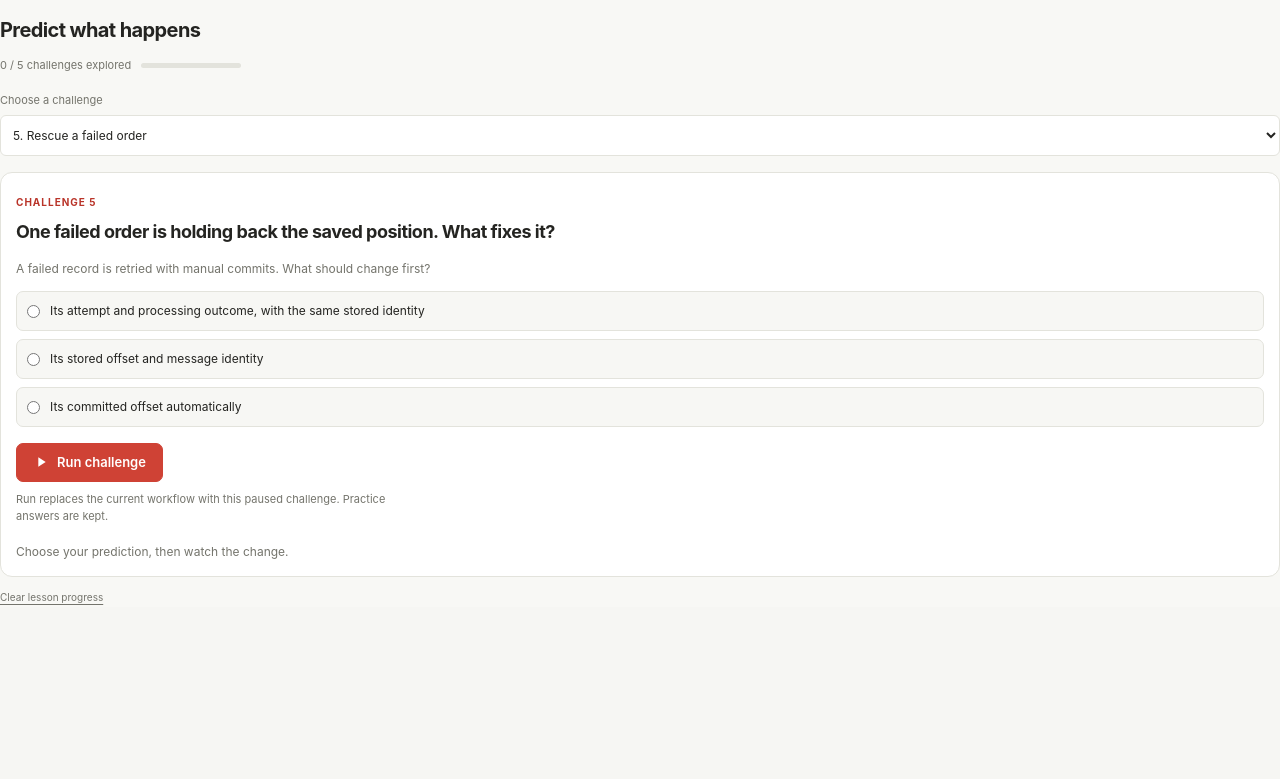
Scenario: guided causal experiments with actual simulator evidence › labels captured results after workflow replacement and disables a stale retry commit
This screenshot has width=1280, height=779.
Step 1. Click the radio button labelled "Its attempt and processing outcome, with the same stored identity" → (34, 311), box 27,305 -> 40,318
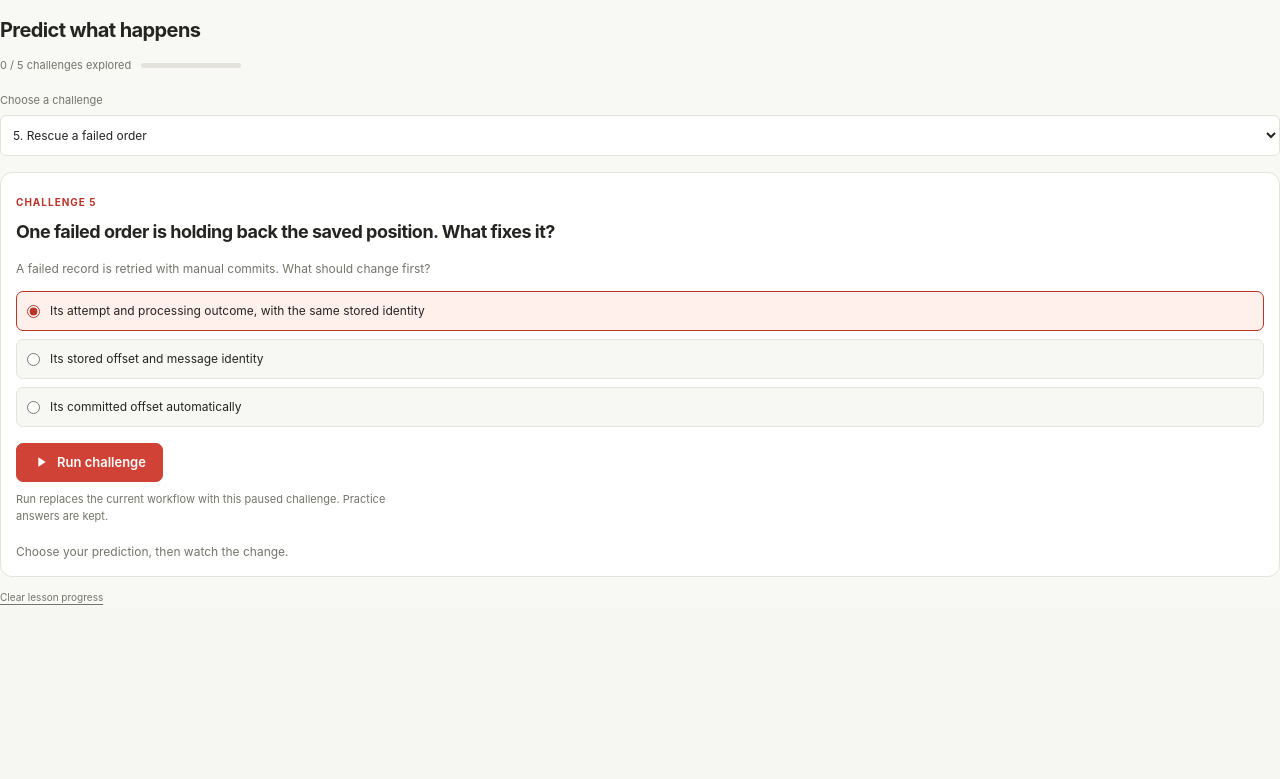
Step 2. Click the button "Run challenge" → (89, 462), box 16,443 -> 163,482
(page scrolled)
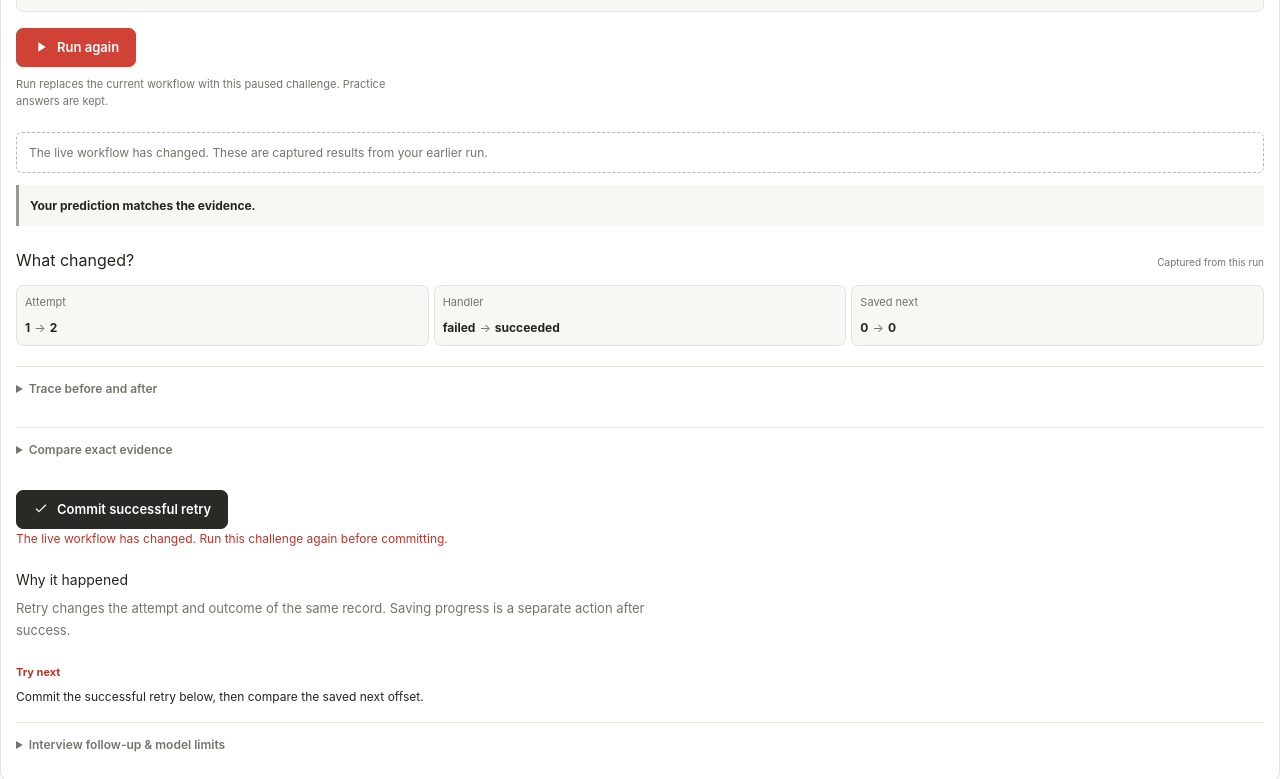
Expected: the text "These are captured results from your earlier run" is shown, 29,145 -> 488,160
Expected: the button "Commit successful retry" is disabled, 16,490 -> 228,529
Step 3. Click the heading "Trace before and after" → (93, 388), box 29,381 -> 157,396
(page scrolled)
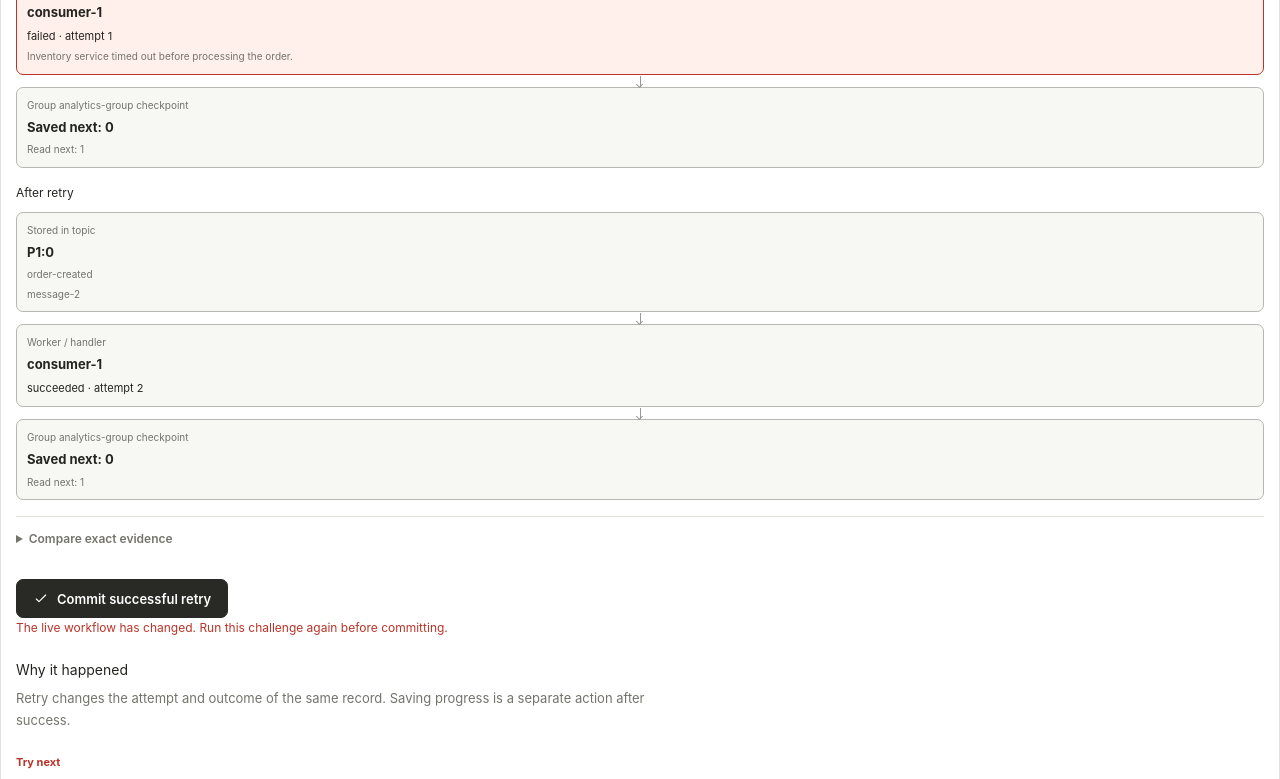
Expected: the text "succeeded · attempt 2" is shown, 27,381 -> 143,395
